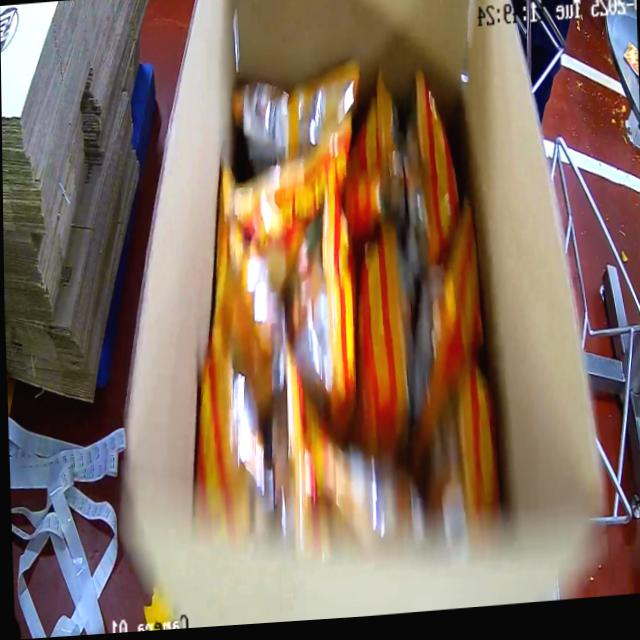FRENCH_CHEESE: (176, 55, 516, 549)
